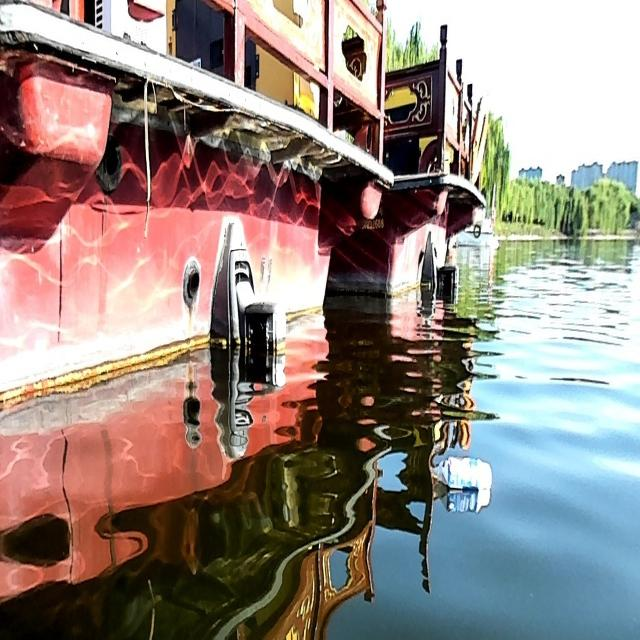bottle: (430, 449, 492, 492)
